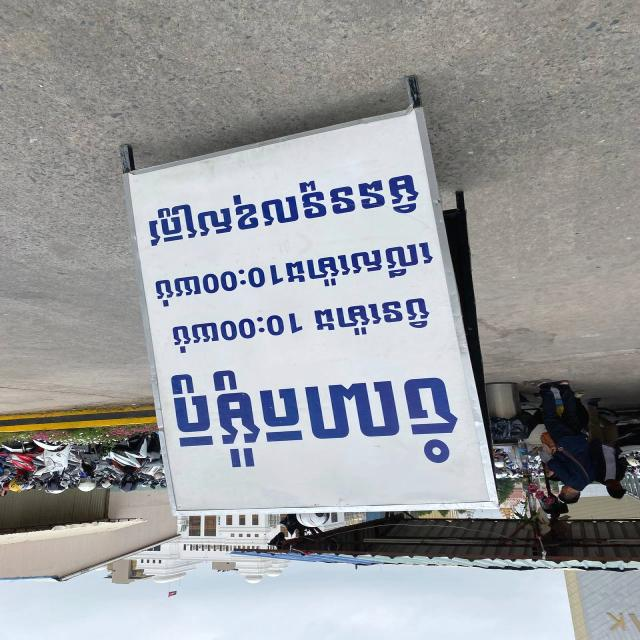33: (143, 228, 441, 312), (162, 290, 440, 358)
Yolov11_80vkh: (152, 352, 476, 482), (138, 152, 428, 256)
